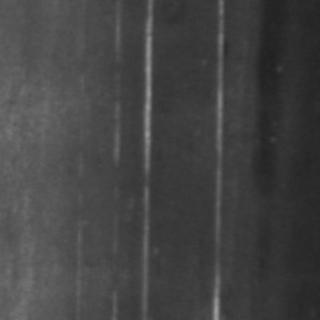scratches: (204, 1, 228, 316), (133, 0, 155, 314)
